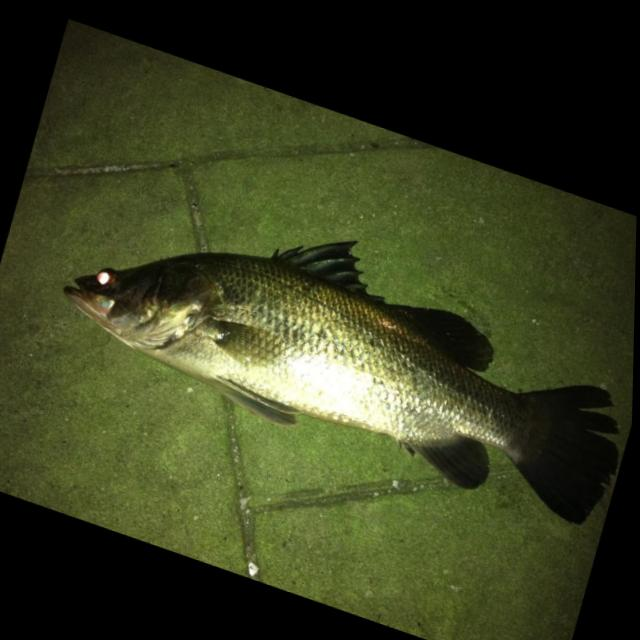Seabass: (43, 143, 637, 539)
